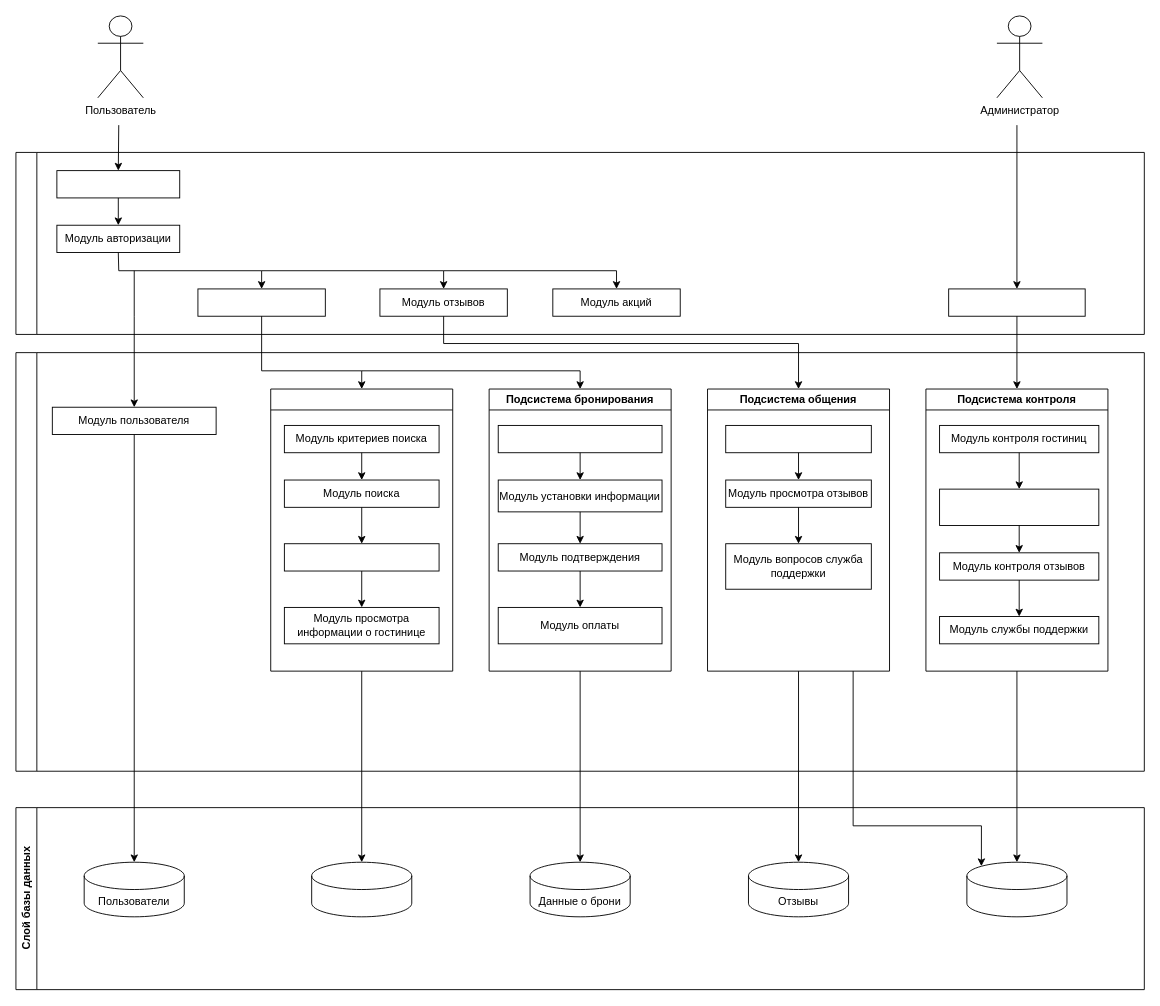
Image size: 1160x1006. Some labels were removed from this diagram. The shapes that lost their labels are listed below. From the top down, each one's box as (x1, y1, x2, y2) in pixels, then its label:
(56, 170, 180, 198): Модуль регистрации
(15, 152, 1144, 334): Пользовательский слой
(197, 288, 325, 316): Модуль гостиниц
(948, 288, 1085, 316): Модуль управления
(497, 425, 662, 453): Модуль выбора гостиницы
(725, 425, 871, 453): Модуль написания отзывов
(939, 488, 1099, 526): Модуль контроля пользователей
(270, 388, 453, 671): Подсистема поиска и просмотра
(283, 543, 439, 571): Модуль просмотра списка гостиниц
(15, 352, 1144, 771): Слой системы
(311, 861, 412, 917): Гостиницы
(966, 861, 1067, 917): Вопросы сл. подддержки
